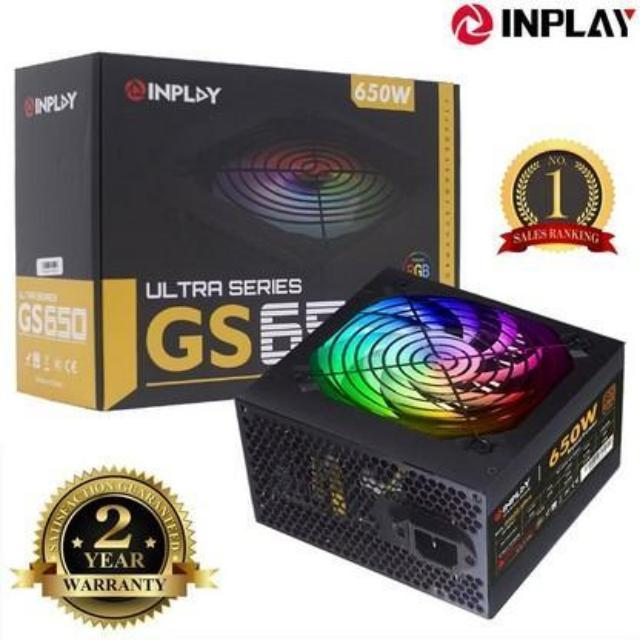PSU: (227, 266, 633, 626)
